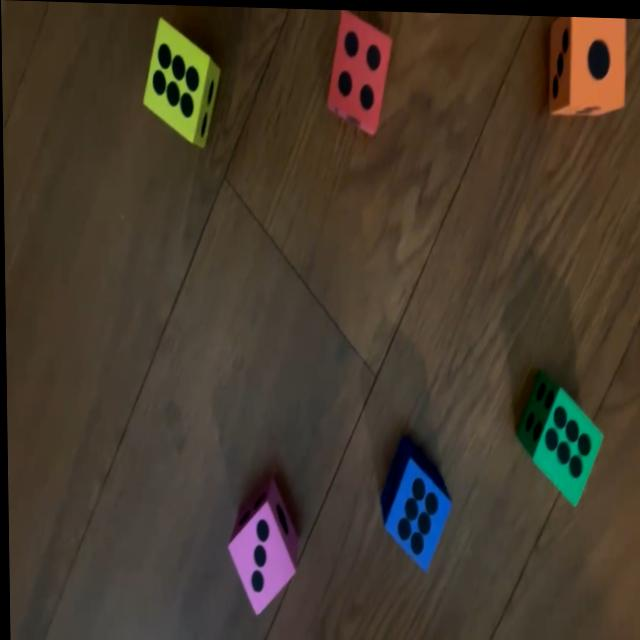cube: (516, 372, 603, 508), (379, 437, 449, 567), (323, 8, 392, 137)
